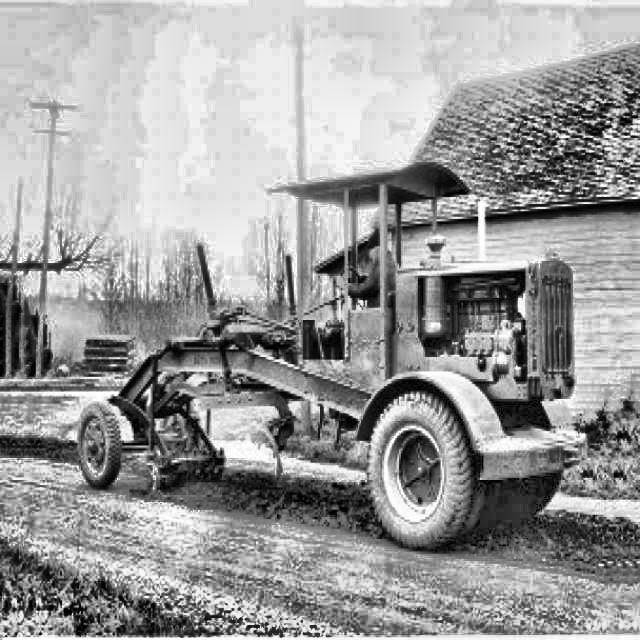bull_dozer/loader/grader: (75, 154, 593, 558)
person: (347, 210, 398, 308)
